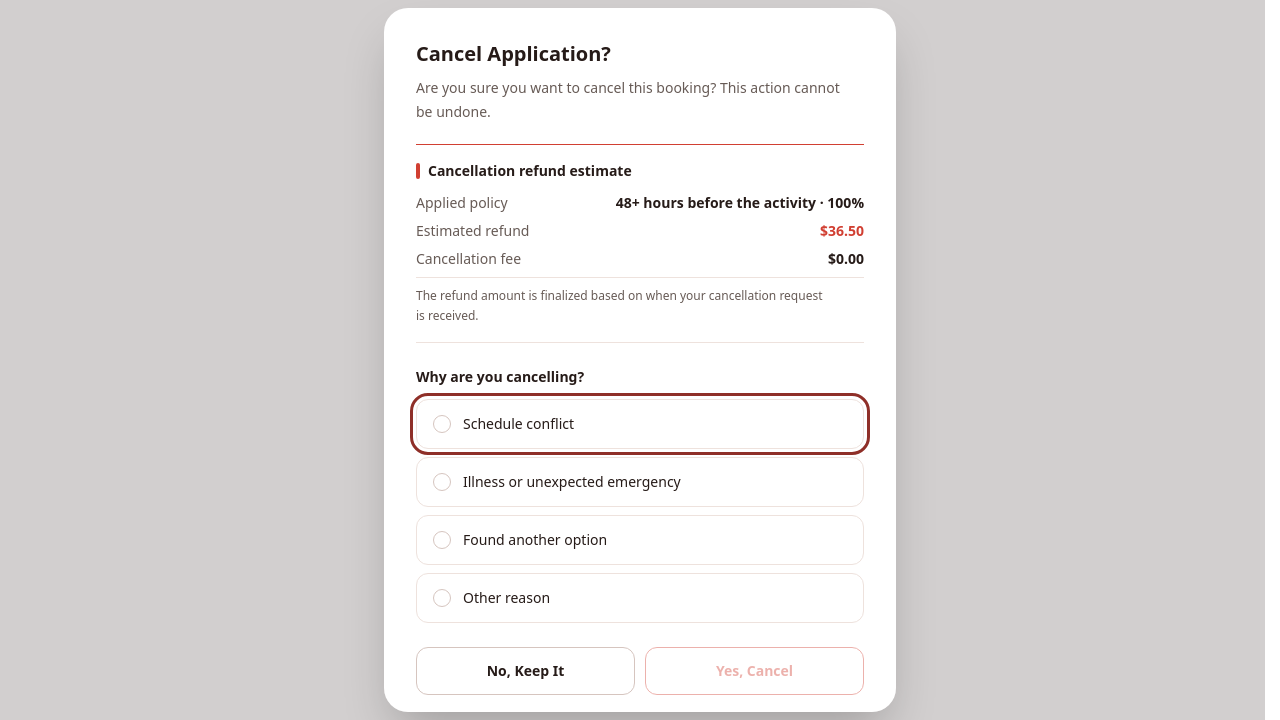
CancelDialog › disables Yes, Cancel until a reason is selected
Expected: the button "Yes, Cancel" is disabled, left=645, top=647, right=864, bottom=695
Click the button "Schedule conflict" at coordinates (519, 424), box left=416, top=399, right=864, bottom=449
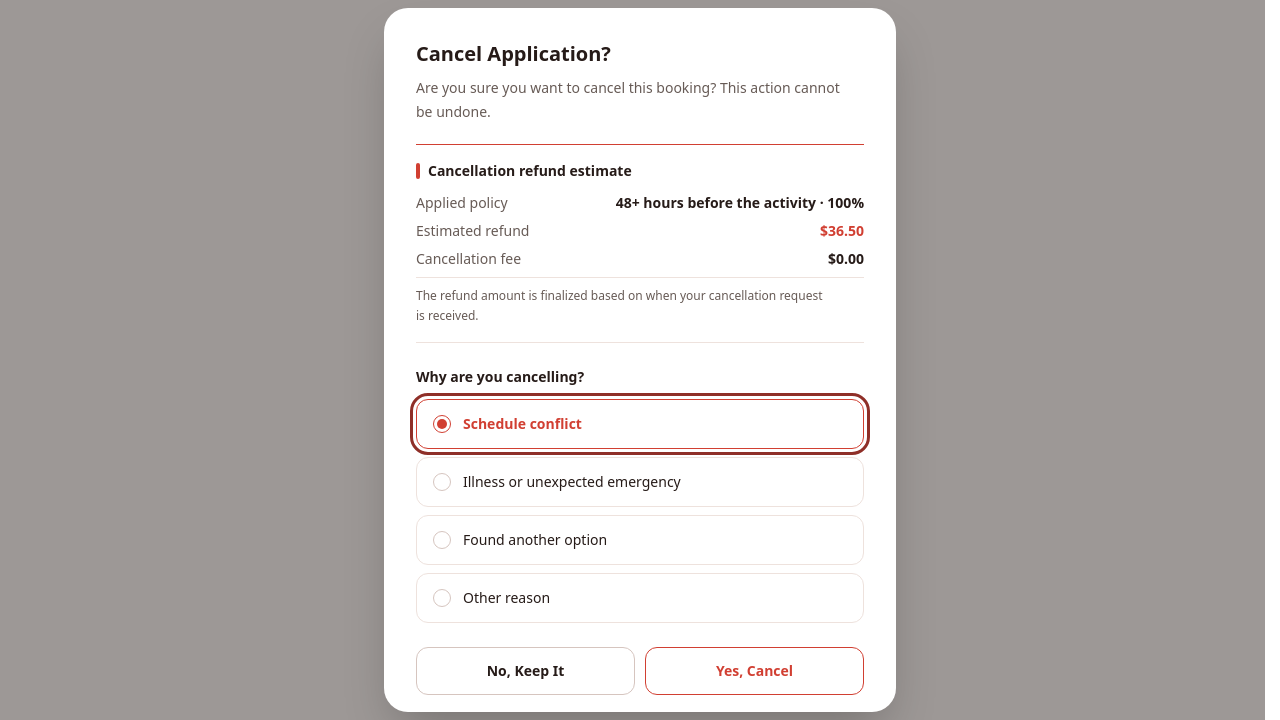
Expected: the button "Yes, Cancel" is enabled, left=645, top=647, right=864, bottom=695
